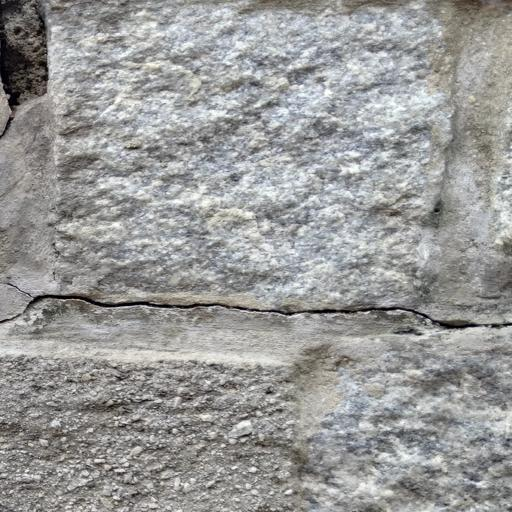major_crack: (0, 244, 512, 351)
